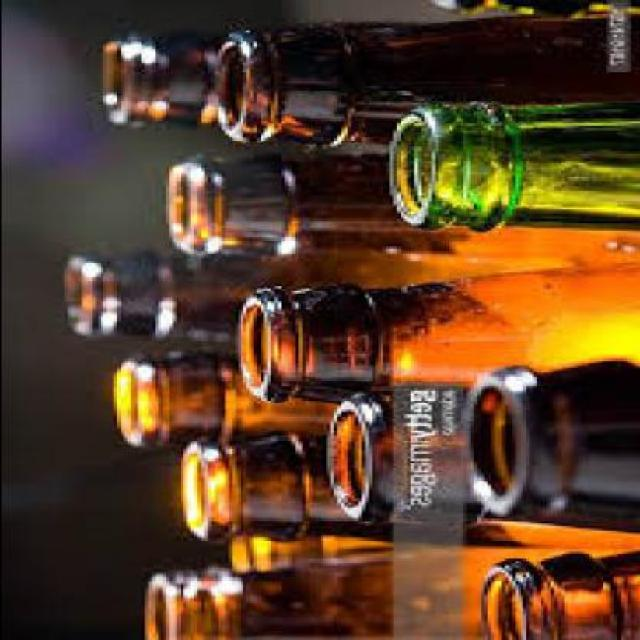GLASS: (231, 253, 637, 404), (213, 14, 636, 141), (162, 152, 629, 256), (140, 542, 637, 638), (385, 95, 637, 231), (458, 356, 637, 524), (322, 383, 503, 522), (59, 256, 364, 333), (112, 351, 336, 440), (472, 544, 637, 638), (186, 435, 322, 537), (94, 26, 220, 128)
